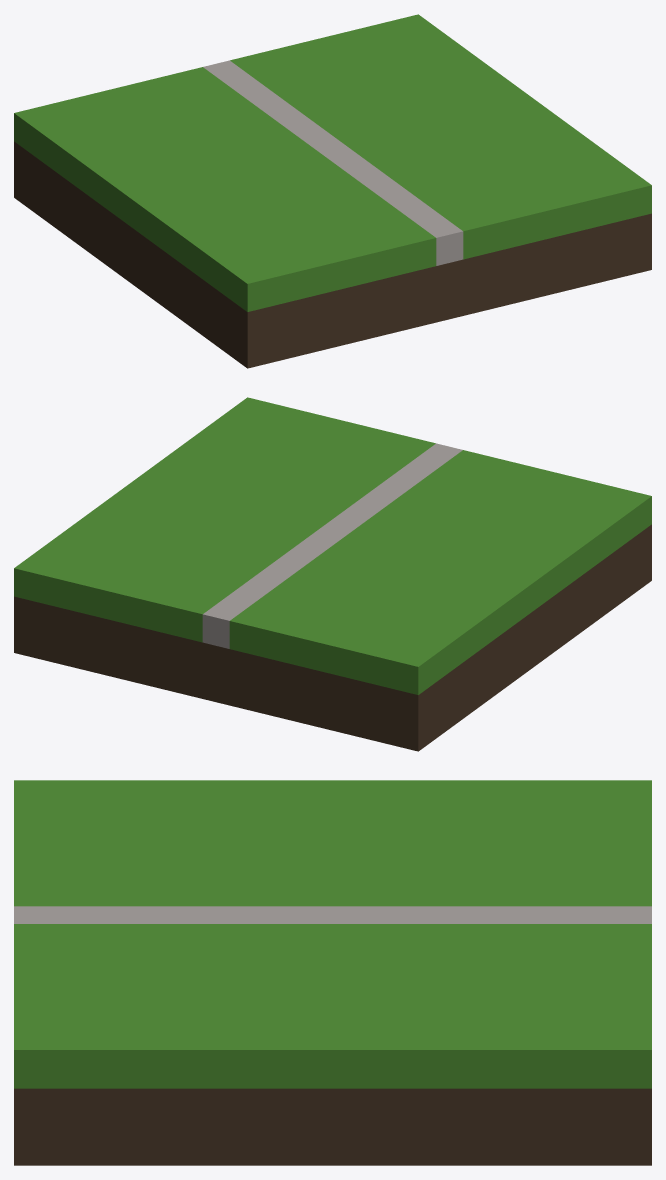
The model's file is tiles_tile-sidewalk-straight.fbx.
The picture shows the model from 3 angles, top to bottom: view 1: azimuth 30°, elevation 25°; view 2: azimuth 150°, elevation 25°; view 3: azimuth 270°, elevation 25°; orthographic projection. The views are drawn at different scales.
Visible parts, largest first — view 1: tiles_tile_sidewalk_straight; view 2: tiles_tile_sidewalk_straight; view 3: tiles_tile_sidewalk_straight.
Part boxes in pixels (x1,y1,x2,y2): tiles_tile_sidewalk_straight: (14, 14, 651, 368); tiles_tile_sidewalk_straight: (14, 397, 651, 751); tiles_tile_sidewalk_straight: (14, 780, 651, 1165).
Size of the model in its own units: 200 by 40 by 200.
